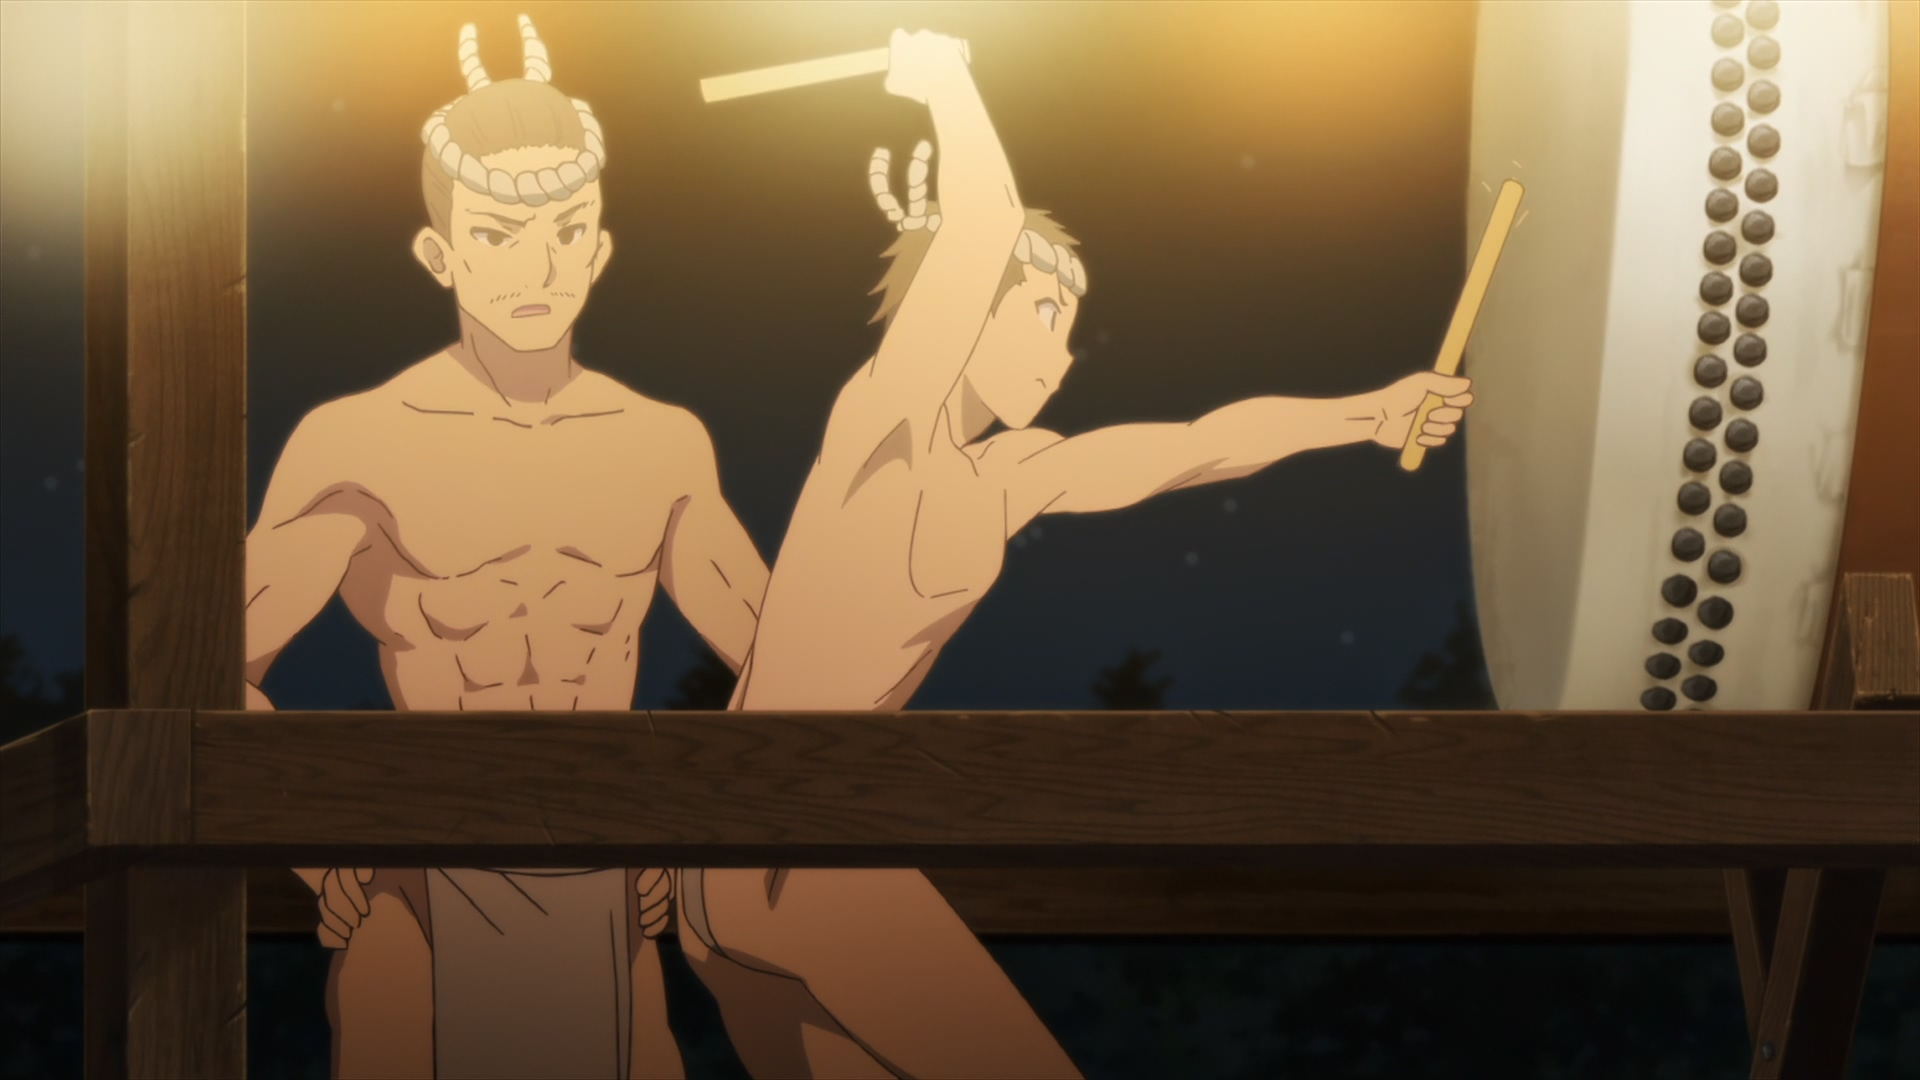其他: (676, 22, 1472, 1080), (244, 15, 767, 1080)
